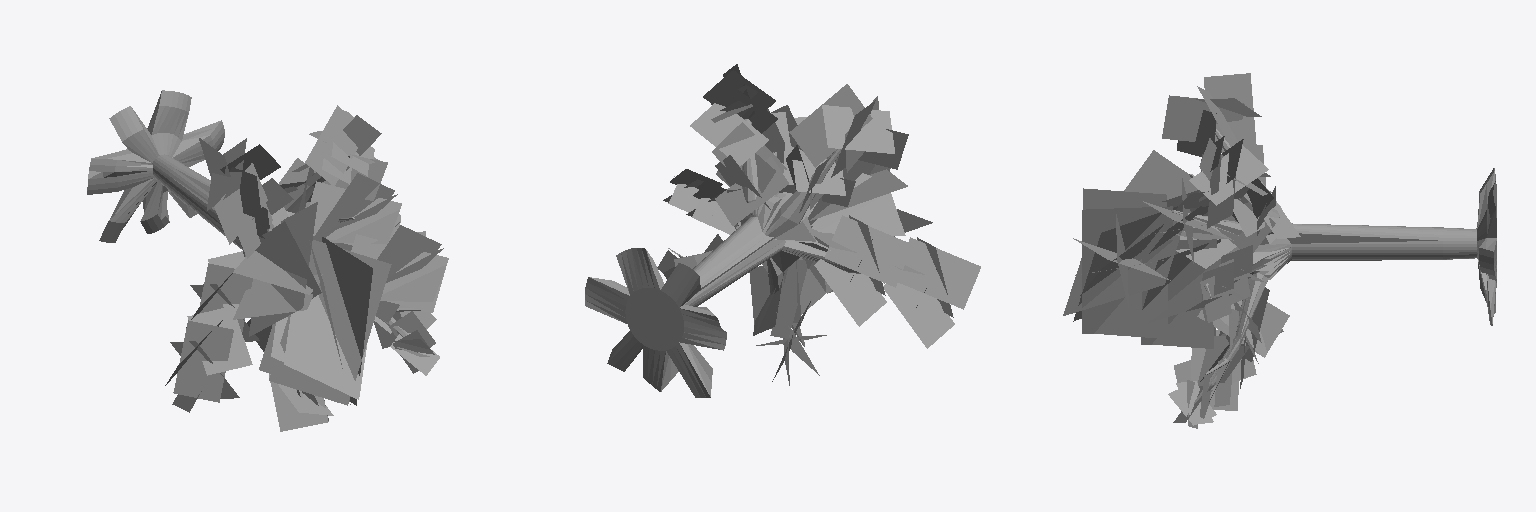
File: tree_jack.obj
3 renders of one model, left to right at view 1: azimuth 30°, elevation 25°; view 2: azimuth 150°, elevation 25°; view 3: azimuth 270°, elevation 25°, orthographic.
Parts seen in each view (by area): view 1: Cylinder, Plane.006_Plane.012, Plane.007_Plane.013, Plane.011_Plane.017, Plane.005_Plane.011, Plane.004_Plane.010, Plane.009_Plane.015, Plane.001_Plane.007, Plane.012_Plane.018, Plane.013_Plane.019, Plane.002_Plane.008, Plane.003_Plane.009 (+3 smaller); view 2: Cylinder, Plane.009_Plane.015, Plane.012_Plane.018, Plane.011_Plane.017, Plane.007_Plane.013, Plane.002_Plane.008, Plane.015_Plane.021, Plane.014_Plane.020, Plane.010_Plane.016, Plane.016_Plane.022, Plane, Plane.013_Plane.019 (+5 smaller); view 3: Cylinder, Plane.006_Plane.012, Plane.009_Plane.015, Plane.008_Plane.014, Plane.002_Plane.008, Plane.007_Plane.013, Plane.001_Plane.007, Plane.015_Plane.021, Plane.003_Plane.009, Plane.014_Plane.020, Plane.005_Plane.011, Plane (+3 smaller).
Part boxes in pixels (bbox=[...]): Cylinder: bbox=[87, 90, 420, 397]; Plane.006_Plane.012: bbox=[269, 237, 391, 405]; Plane.007_Plane.013: bbox=[233, 202, 335, 336]; Plane.011_Plane.017: bbox=[165, 306, 252, 412]; Plane.005_Plane.011: bbox=[351, 225, 448, 322]; Plane.004_Plane.010: bbox=[309, 173, 401, 250]; Plane.009_Plane.015: bbox=[199, 138, 280, 244]; Plane.001_Plane.007: bbox=[374, 305, 439, 375]; Plane.012_Plane.018: bbox=[186, 251, 259, 341]; Plane.013_Plane.019: bbox=[321, 111, 381, 176]; Plane.002_Plane.008: bbox=[292, 105, 387, 200]; Plane.003_Plane.009: bbox=[260, 360, 333, 431]; Cylinder: bbox=[585, 119, 860, 397]; Plane.009_Plane.015: bbox=[789, 84, 908, 177]; Plane.012_Plane.018: bbox=[809, 215, 912, 326]; Plane.011_Plane.017: bbox=[883, 237, 980, 348]; Plane.007_Plane.013: bbox=[783, 144, 907, 268]; Plane.002_Plane.008: bbox=[690, 79, 777, 165]; Plane.015_Plane.021: bbox=[712, 122, 795, 225]; Plane.014_Plane.020: bbox=[749, 259, 807, 338]; Plane.010_Plane.016: bbox=[786, 145, 855, 212]; Plane.016_Plane.022: bbox=[686, 183, 735, 234]; Plane: bbox=[663, 169, 722, 212]; Plane.013_Plane.019: bbox=[711, 64, 775, 118]; Cylinder: bbox=[1172, 129, 1496, 403]; Plane.006_Plane.012: bbox=[1063, 188, 1181, 338]; Plane.009_Plane.015: bbox=[1162, 73, 1261, 156]; Plane.008_Plane.014: bbox=[1141, 228, 1220, 348]; Plane.002_Plane.008: bbox=[1176, 139, 1271, 228]; Plane.007_Plane.013: bbox=[1124, 150, 1239, 268]; Plane.001_Plane.007: bbox=[1168, 302, 1261, 428]; Plane.015_Plane.021: bbox=[1215, 178, 1300, 252]; Plane.003_Plane.009: bbox=[1174, 330, 1256, 410]; Plane.014_Plane.020: bbox=[1197, 287, 1289, 361]; Plane.005_Plane.011: bbox=[1073, 214, 1170, 306]; Plane: bbox=[1186, 262, 1247, 322].
Size of the model in its own units: 891 by 884 by 1150.